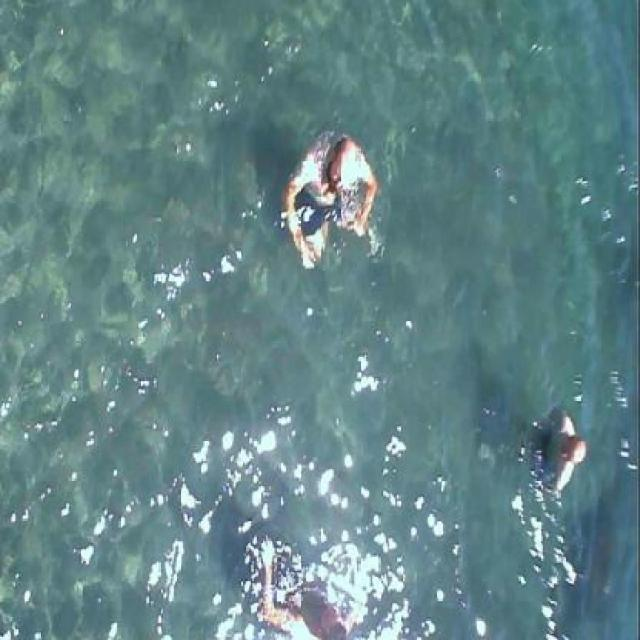swimming: (277, 127, 384, 285), (520, 390, 594, 497)
